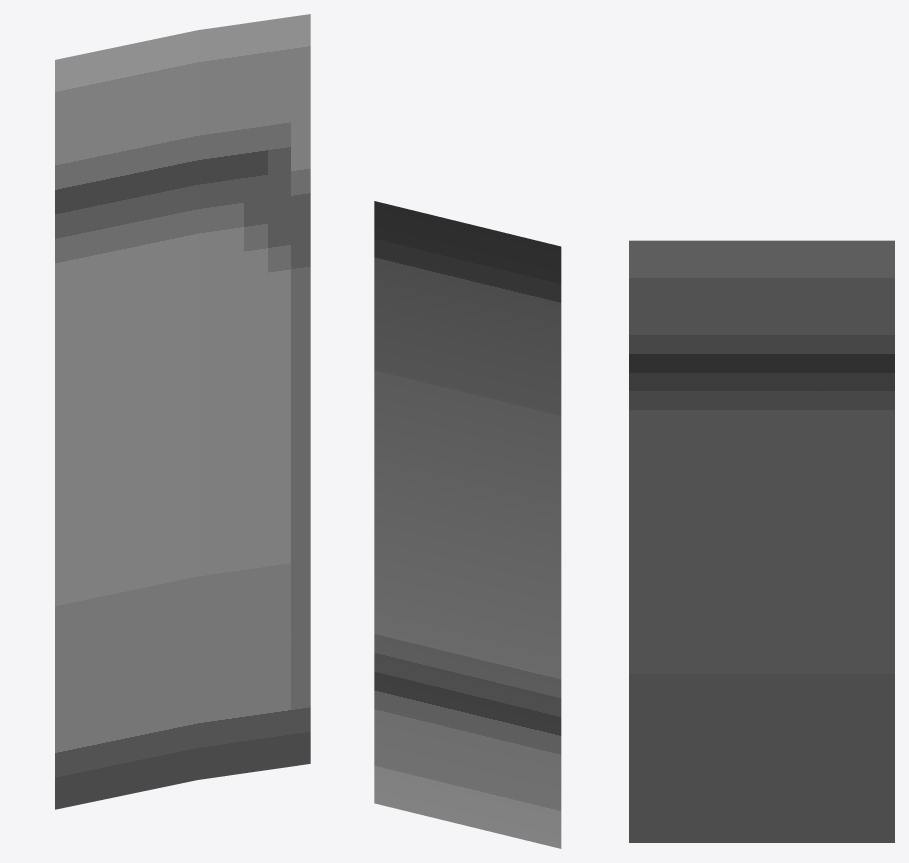
The picture shows the model from 3 angles, left to right: view 1: azimuth 30°, elevation 25°; view 2: azimuth 150°, elevation 25°; view 3: azimuth 270°, elevation 25°; orthographic projection. The views are drawn at different scales.
Bounding box in the file's own units: 1 × 3.06 × 1.
2 materials, 2 textured.
